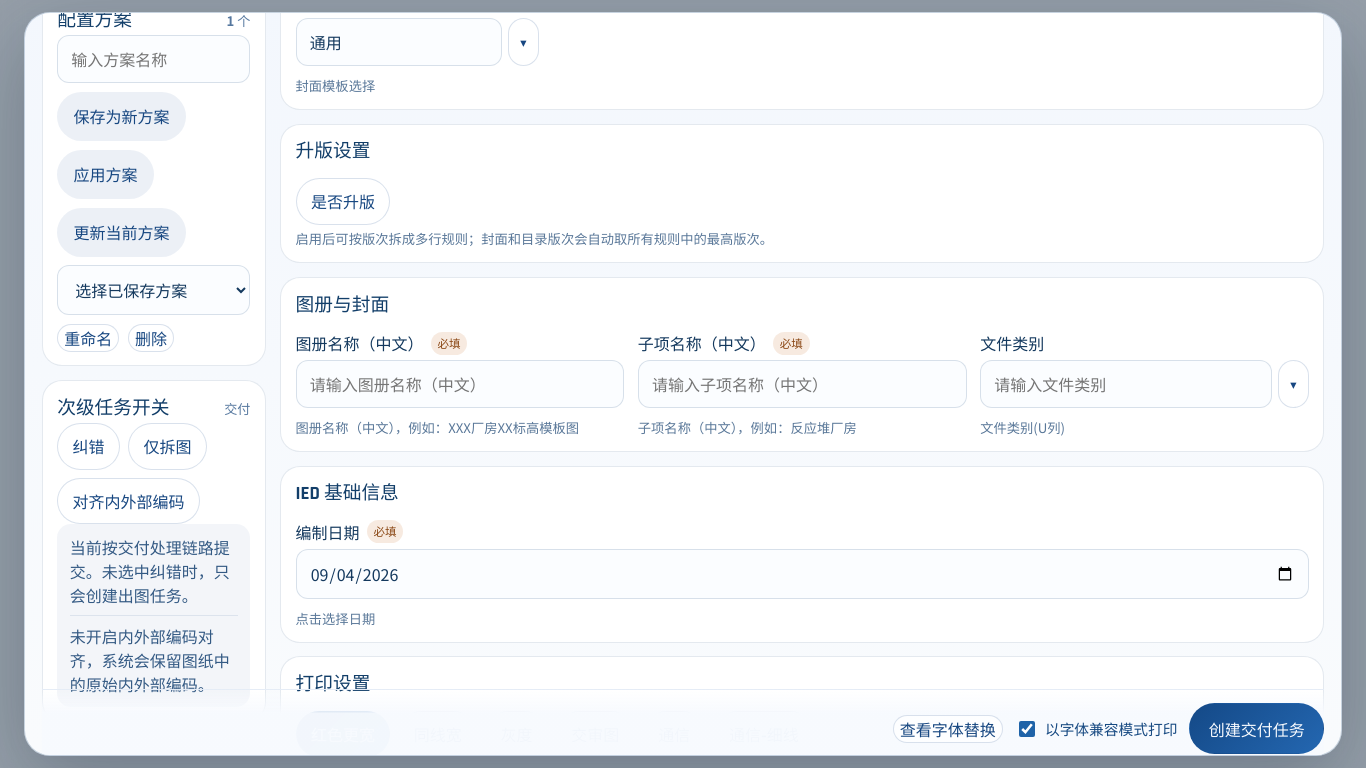
Scenario: DeliverableWorkspace › maps 422 param errors into field and form messages
(page scrolled)
Type "示例图册" into the field labelled "图册名称（中文）" at {"x": 460, "y": 384}, box [296,360,624,408]
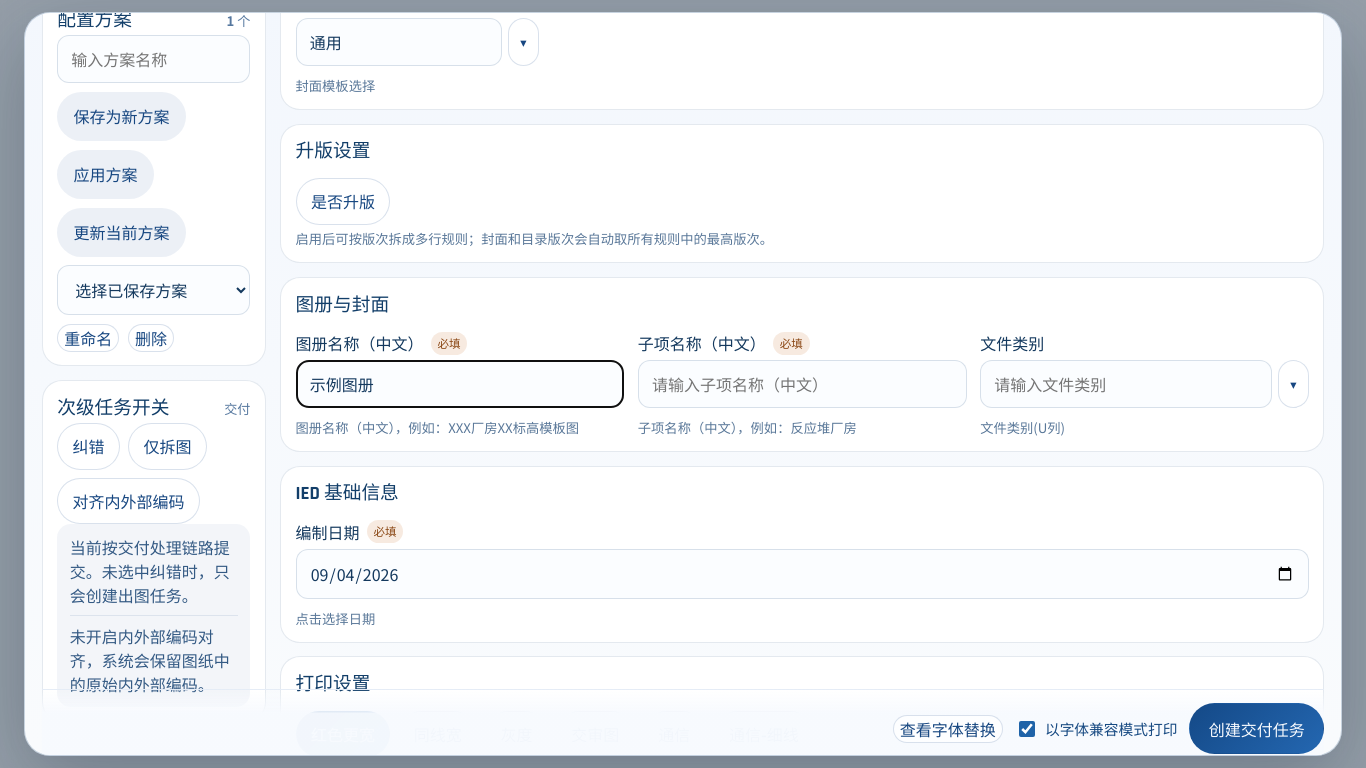
Type "反应堆厂房" into the field labelled "子项名称（中文）" at {"x": 802, "y": 384}, box [638,360,966,408]
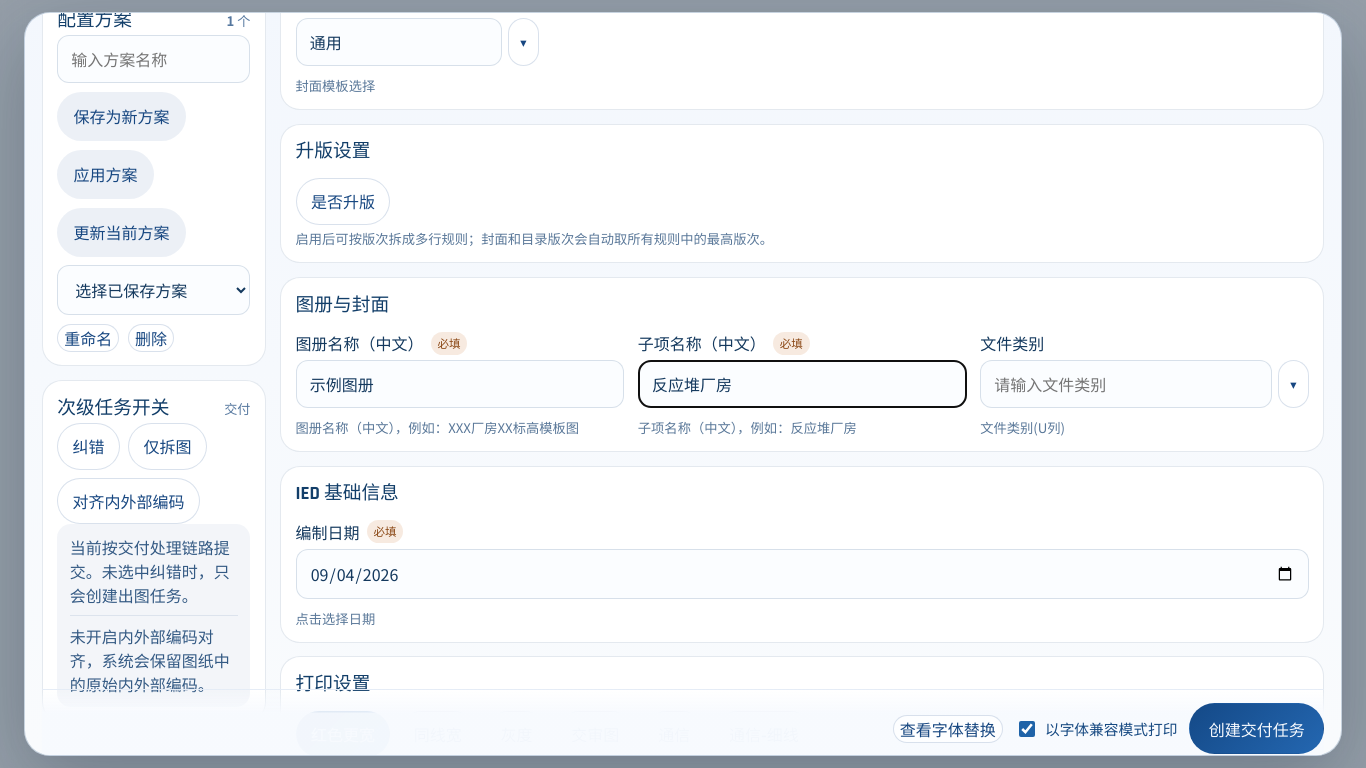
Click the button "创建交付任务" at {"x": 1257, "y": 729}, box [1189,703,1324,754]
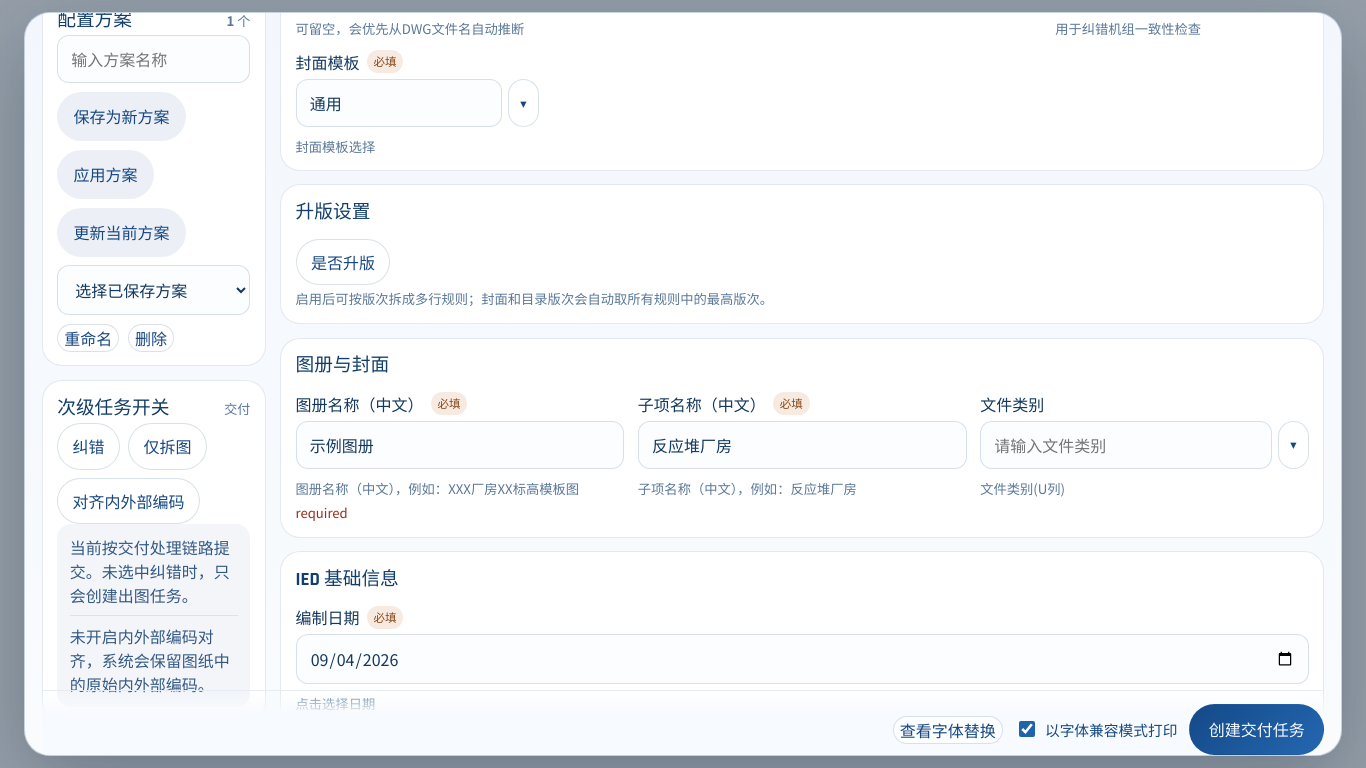
Result: the text "required" is shown at [296,503,348,522]
